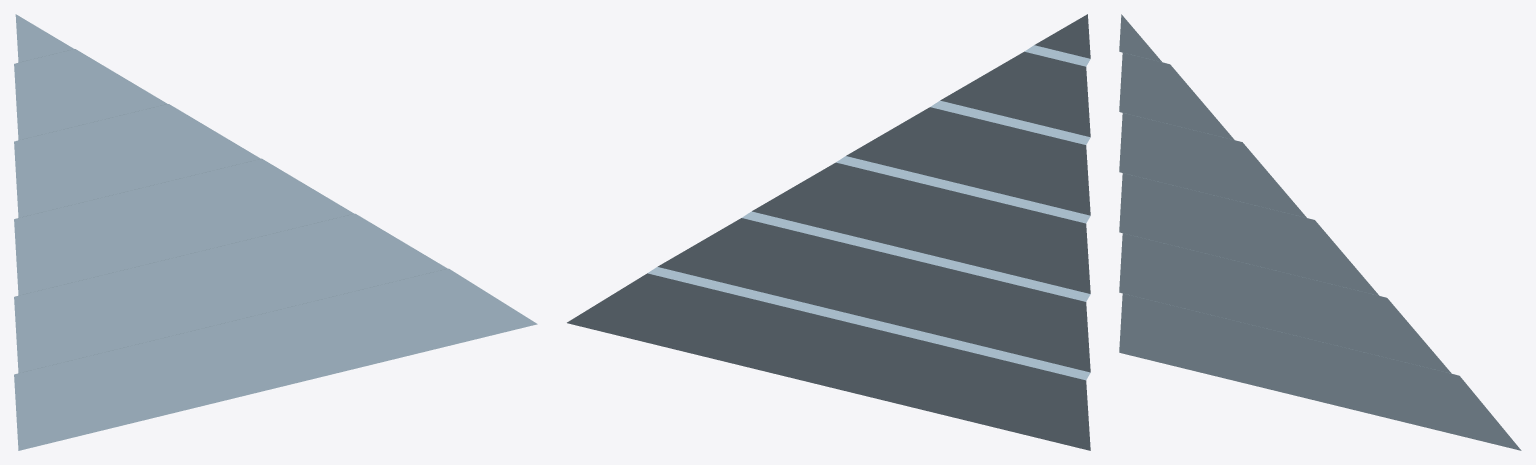
The model's file is HouseWallRoofSlanted.fbx.
The picture shows the model from 3 angles, left to right: view 1: azimuth 30°, elevation 25°; view 2: azimuth 150°, elevation 25°; view 3: azimuth 330°, elevation 25°; orthographic projection. The views are drawn at different scales.
Visible parts, largest first — view 1: Wall_01.002; view 2: Wall_01.002; view 3: Wall_01.002.
Boxes of the visible parts, x1=… form: Wall_01.002: x1=14, y1=14, x2=537, y2=450; Wall_01.002: x1=567, y1=14, x2=1090, y2=450; Wall_01.002: x1=1119, y1=14, x2=1521, y2=450.
Size of the model in its own units: 200 by 160 by 2.99.
